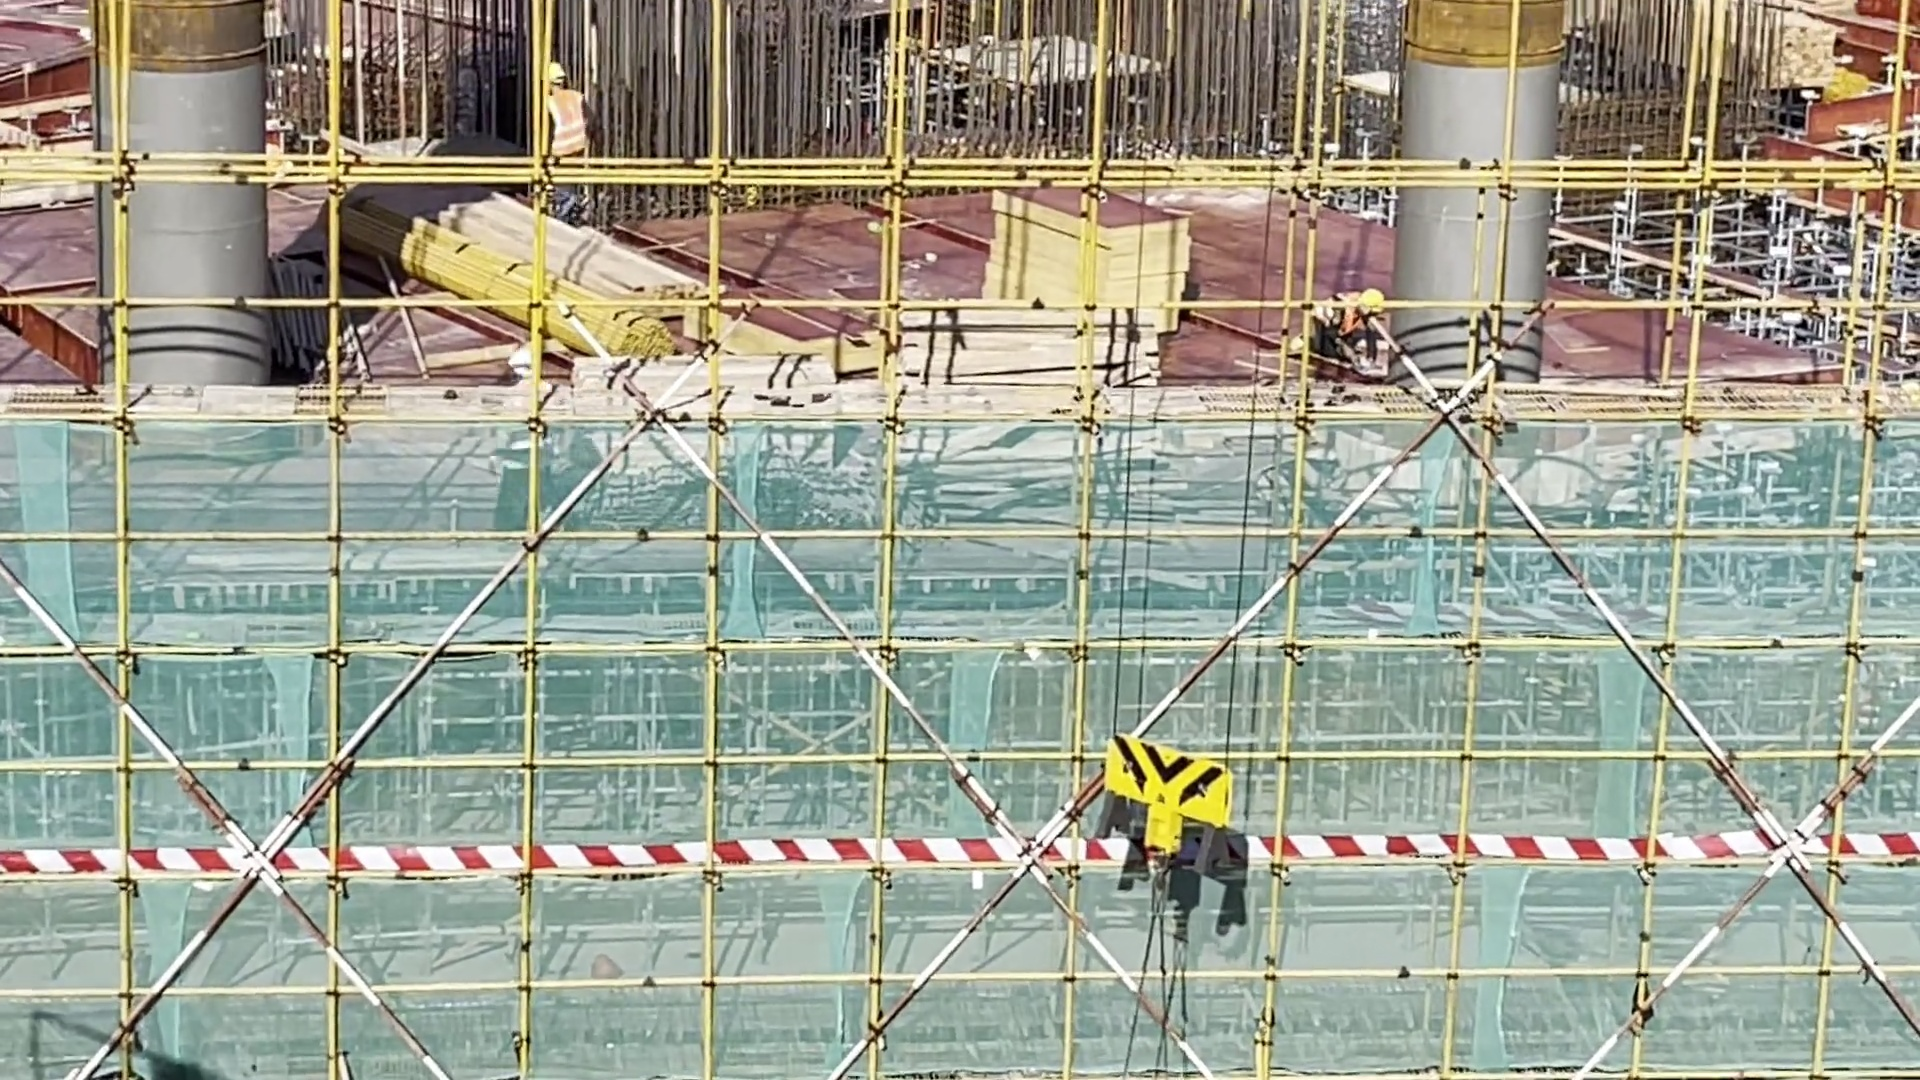board: (988, 184, 1190, 324)
helmet: (545, 61, 567, 87)
hook: (1105, 731, 1232, 860)
person: (1301, 285, 1390, 374), (543, 68, 600, 153)
vest: (544, 92, 588, 156)
wood: (404, 191, 686, 357), (902, 285, 1166, 401), (1763, 12, 1836, 88)
